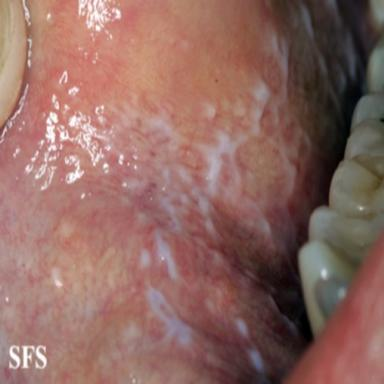lichen: (93, 3, 366, 384)
